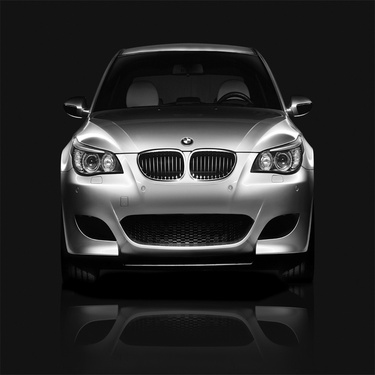car: (36, 36, 330, 289)
